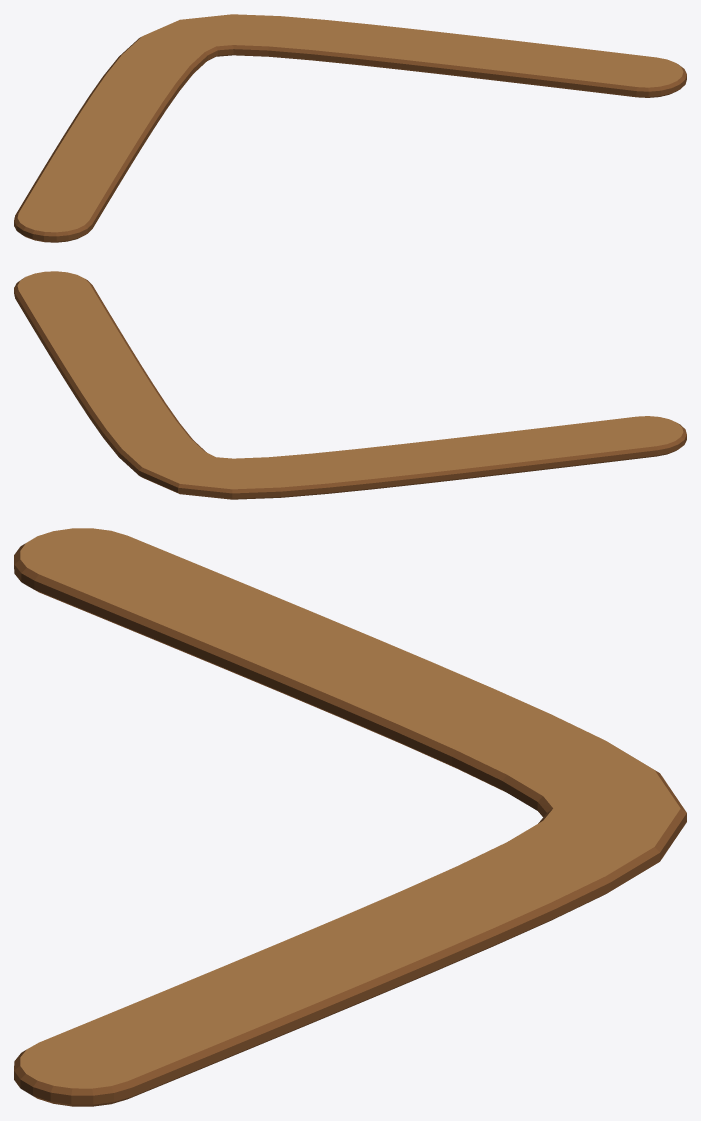
The model's file is NEW_RECOVERY_006_LOD1.glb.
The picture shows the model from 3 angles, top to bottom: view 1: azimuth 30°, elevation 25°; view 2: azimuth 150°, elevation 25°; view 3: azimuth 270°, elevation 25°; orthographic projection. The views are drawn at different scales.
Parts seen in each view (by area): view 1: Boomerang; view 2: Boomerang; view 3: Boomerang.
Part boxes in pixels (x1=…): Boomerang: x1=14, y1=14, x2=686, y2=242; Boomerang: x1=14, y1=271, x2=686, y2=499; Boomerang: x1=14, y1=528, x2=686, y2=1106.
Size of the model in its own units: 0.5354 by 0.008 by 0.2693.
